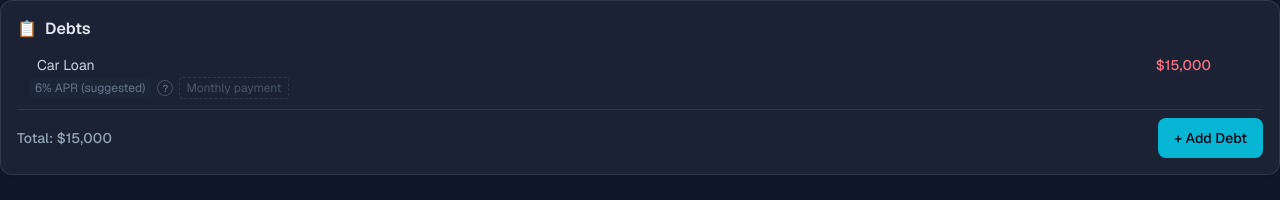
Test: DebtEntry component › shows click-to-edit input when category is clicked
Click the button with aria-label "Edit category for Car Loan" at {"x": 66, "y": 65}, box x1=29 y1=51 x2=1095 y2=79
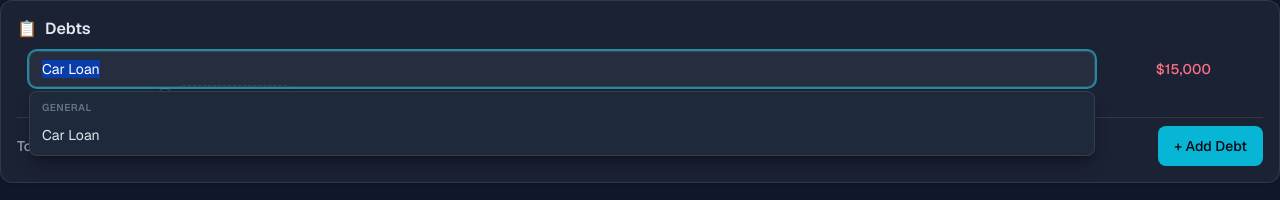
Result: the field named "Edit category name" is shown at x1=29 y1=51 x2=1095 y2=87
